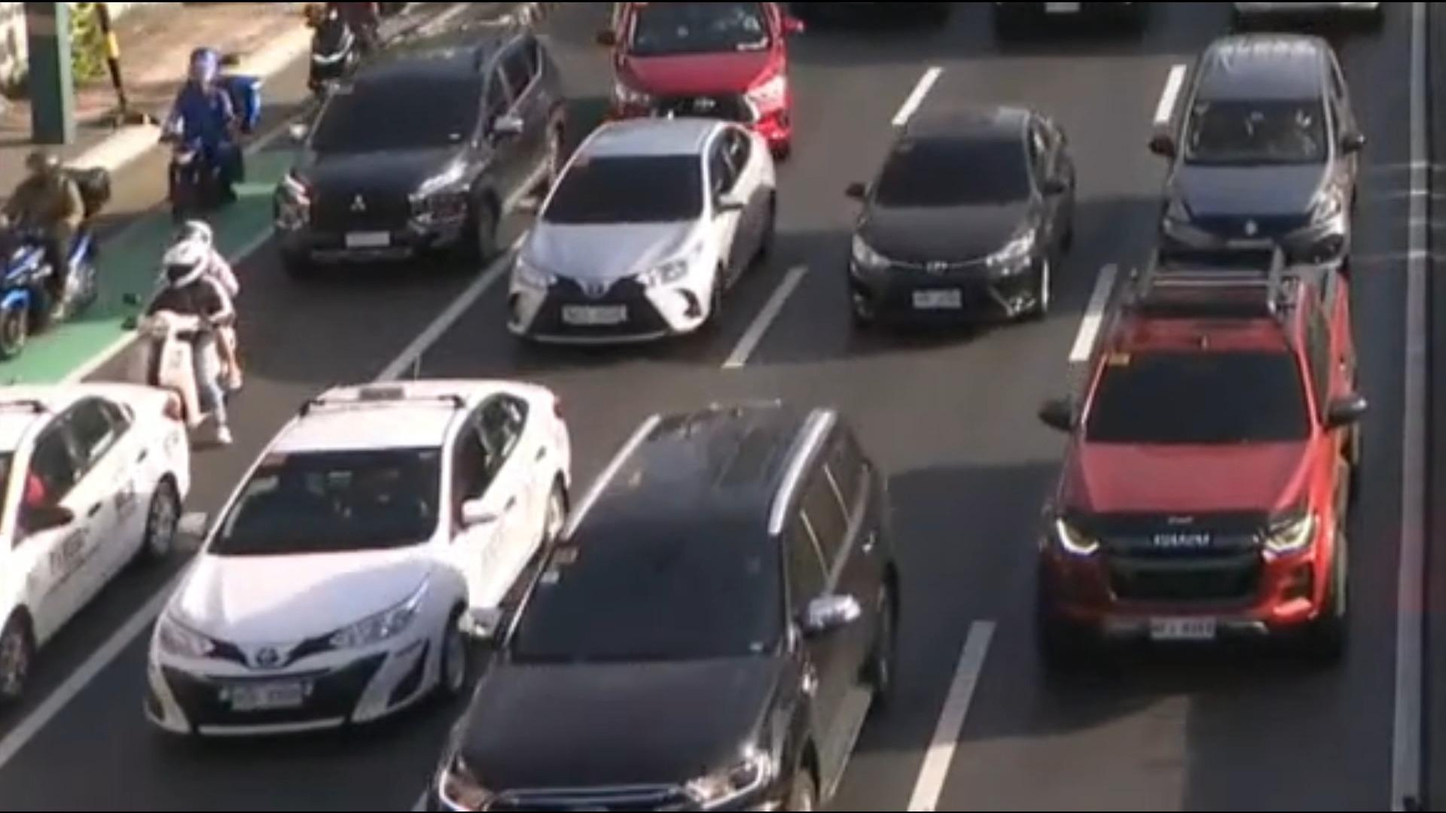Motorcycle: (0, 139, 119, 363), (141, 220, 245, 452), (145, 41, 252, 233), (301, 0, 395, 105)
SUV: (431, 416, 896, 813), (1047, 263, 1356, 653), (286, 34, 559, 263), (1158, 47, 1363, 280)
Sedan: (151, 390, 569, 730), (508, 124, 778, 339), (0, 388, 185, 694), (845, 107, 1075, 331), (604, 0, 798, 158)
